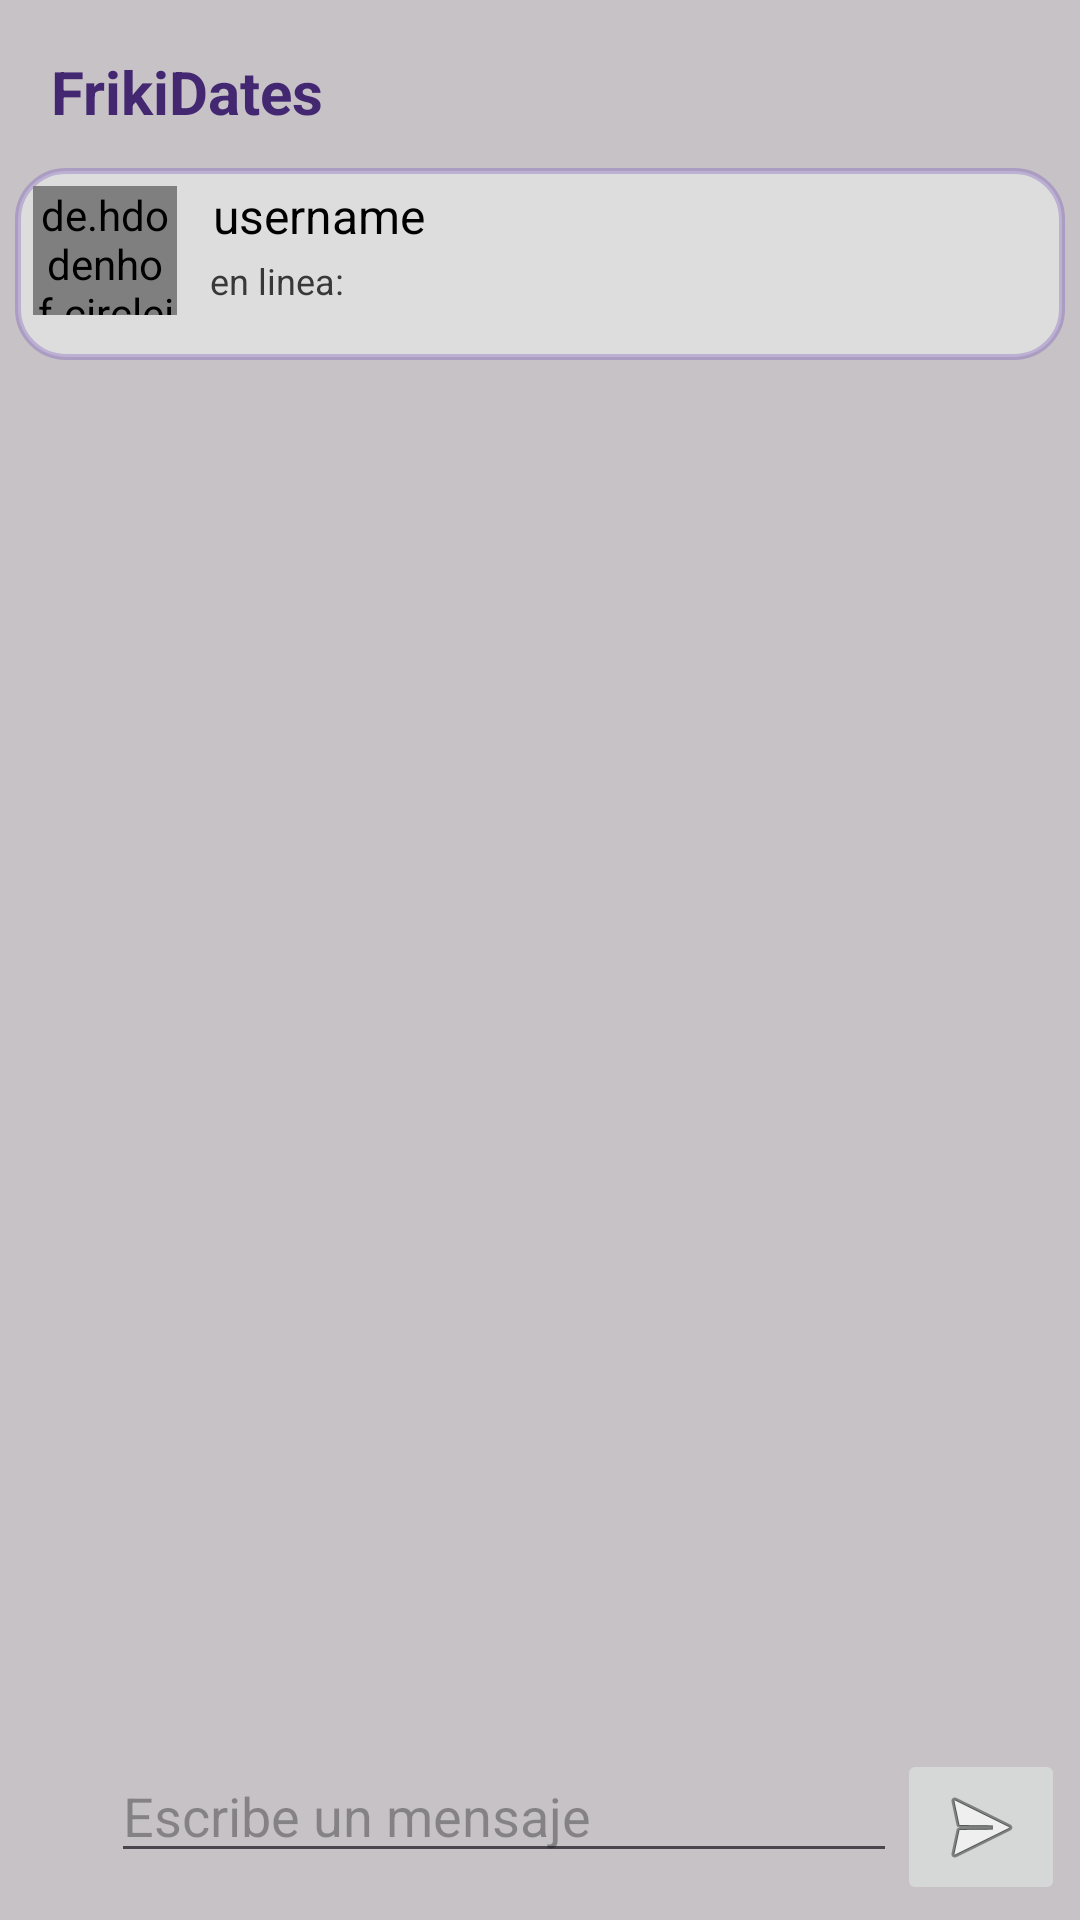

Where to tap for icons on this 1080*1920 app screen, as point (x, y):
send: point (981, 1827)
